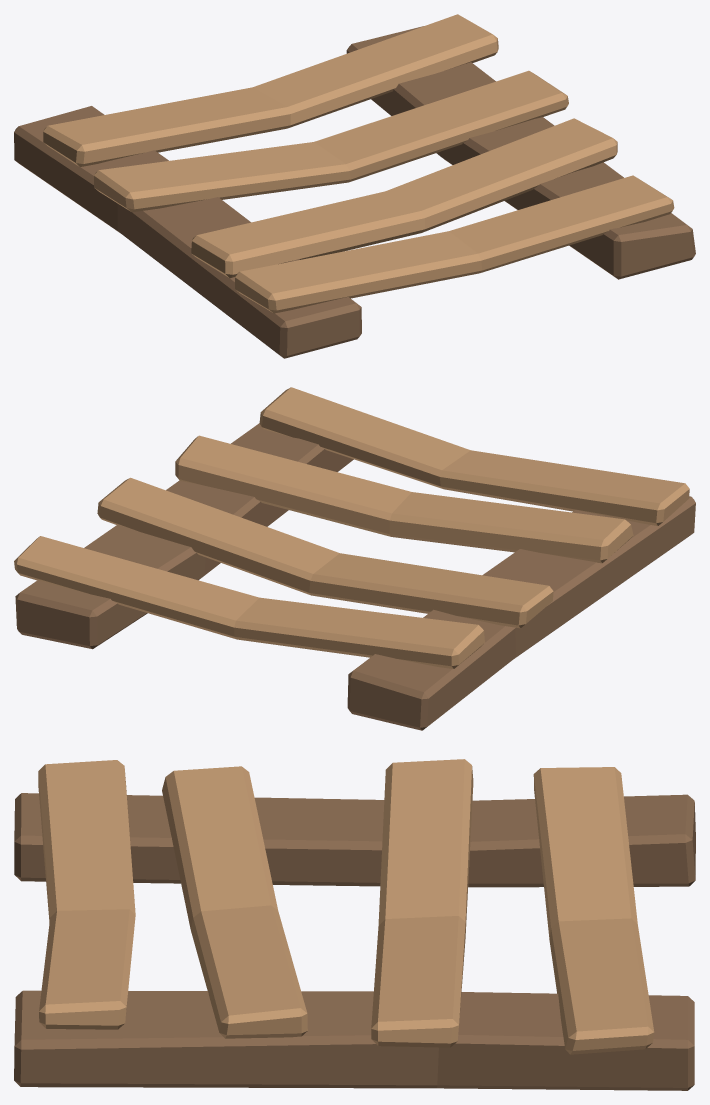
The model's file is wood fence2.fbx.
3 renders of one model, top to bottom at view 1: azimuth 30°, elevation 25°; view 2: azimuth 150°, elevation 25°; view 3: azimuth 270°, elevation 25°, orthographic. The views are drawn at different scales.
Visible parts, largest first — view 1: wooden-fence.002; view 2: wooden-fence.002; view 3: wooden-fence.002.
Boxes of the visible parts, left/top/right/bottom form: wooden-fence.002: left=14, top=14, right=695, bottom=358; wooden-fence.002: left=14, top=387, right=695, bottom=730; wooden-fence.002: left=14, top=759, right=695, bottom=1090.
Size of the model in its own units: 1.9 by 0.2638 by 2.
